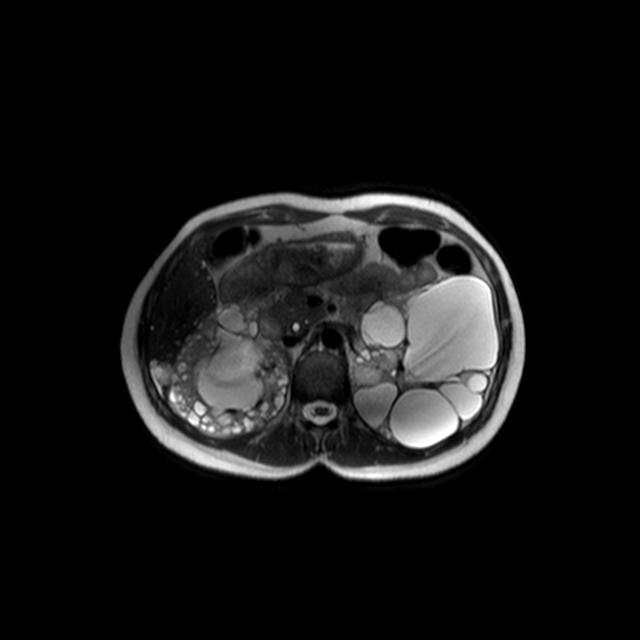sag: (150, 299, 290, 438)
sol: (350, 273, 502, 449)
